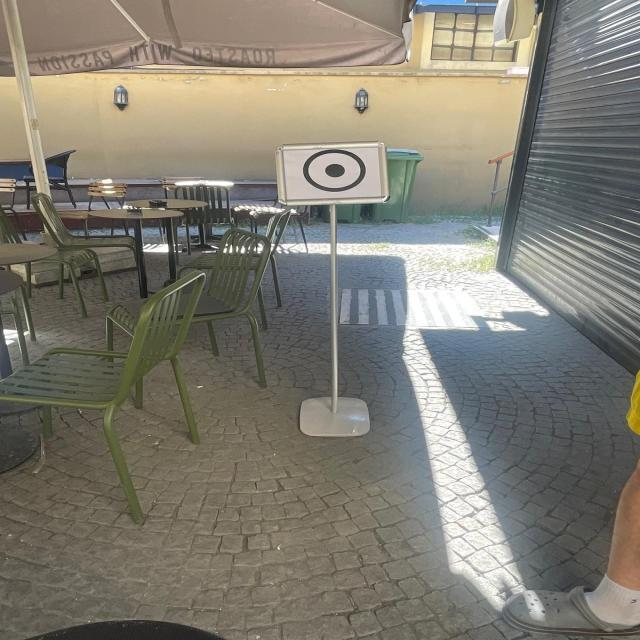Target: (256, 133, 413, 209)
inner: (317, 156, 356, 184)
